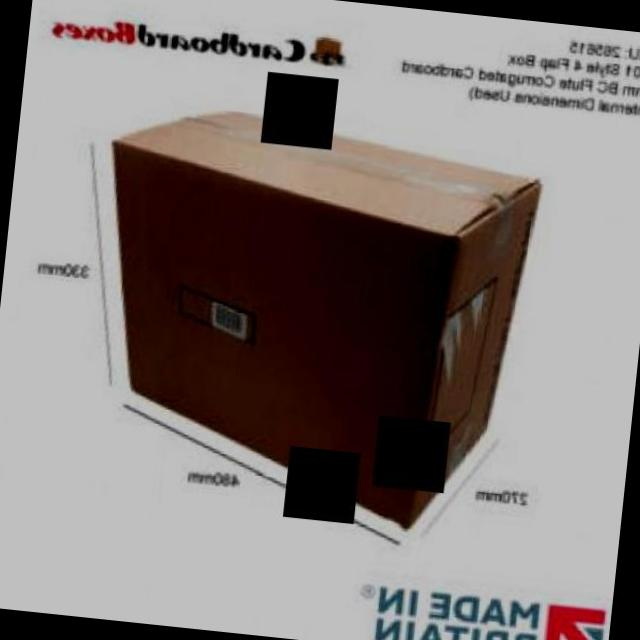box: (31, 88, 576, 597)
